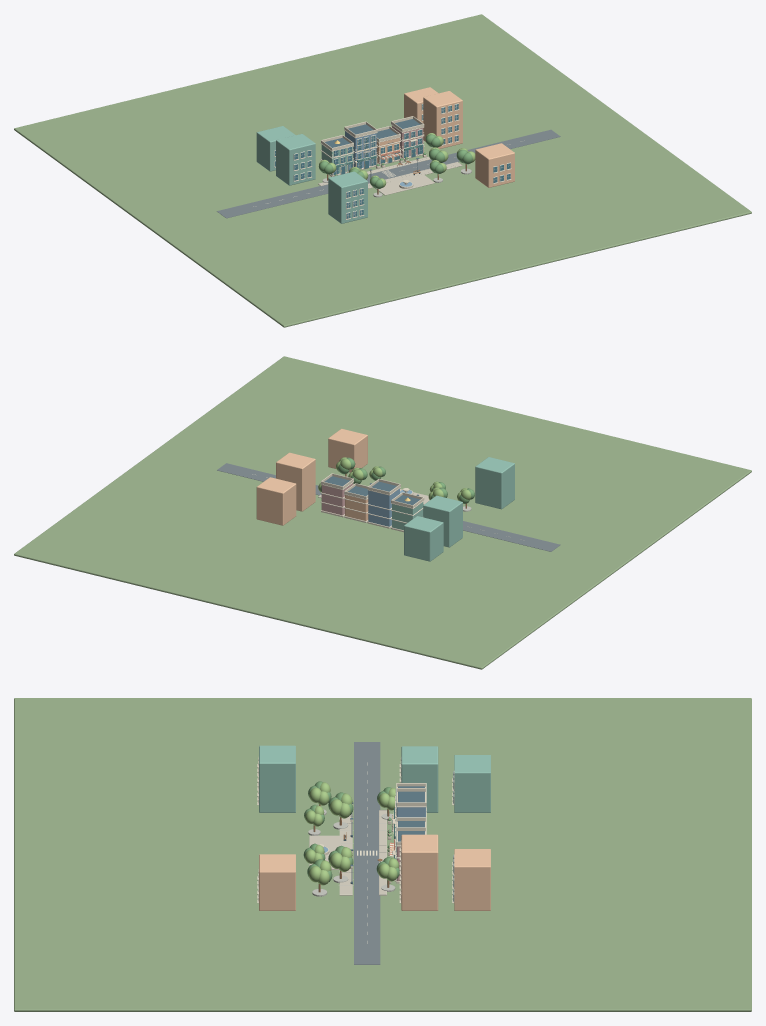
The model's file is freedom-square.glb.
The picture shows the model from 3 angles, top to bottom: view 1: azimuth 30°, elevation 25°; view 2: azimuth 150°, elevation 25°; view 3: azimuth 270°, elevation 25°; orthographic projection. The views are drawn at different scales.
Visible parts, largest first — view 1: Town_grass, Town_mint, Town_peach, Town_road, Town_ivory, Town_glass, Town_cream, Town_paving, Town_leaf, Town_blue, Town_slate; view 2: Town_grass, Town_mint, Town_peach, Town_road, Town_ivory, Town_blue, Town_leafLight, Town_pink, Town_slate, Town_leaf, Town_cream; view 3: Town_grass, Town_peach, Town_mint, Town_road, Town_leafLight, Town_paving, Town_ivory, Town_leaf, Town_slate, Town_cream, Town_stone.
Part boxes in pixels (box(x1,y1,x2,y2)): Town_grass: box(14, 14, 751, 327); Town_mint: box(256, 126, 367, 223); Town_peach: box(376, 87, 514, 187); Town_road: box(217, 129, 560, 218); Town_ivory: box(274, 104, 511, 219); Town_glass: box(275, 104, 510, 218); Town_cream: box(252, 103, 524, 218); Town_paving: box(318, 156, 462, 195); Town_leaf: box(318, 134, 472, 188); Town_blue: box(295, 105, 508, 216); Town_slate: box(324, 119, 420, 177); Town_grass: box(14, 356, 751, 669); Town_mint: box(392, 457, 514, 561); Town_peach: box(256, 428, 368, 525); Town_road: box(217, 463, 560, 551); Town_ivory: box(321, 473, 424, 532); Town_blue: box(368, 488, 412, 526); Town_leafLight: box(318, 457, 471, 500); Town_pink: box(321, 483, 353, 515); Town_slate: box(324, 476, 420, 505); Town_leaf: box(320, 457, 474, 503); Town_cream: box(252, 474, 524, 540); Town_grass: box(14, 698, 751, 1011); Town_peach: box(259, 834, 490, 910); Town_mint: box(259, 745, 490, 812); Town_road: box(354, 742, 380, 964); Town_leafLight: box(305, 782, 399, 885); Town_paving: box(309, 810, 386, 895); Town_ivory: box(257, 758, 454, 903); Town_leaf: box(303, 781, 399, 881); Town_slate: box(343, 786, 424, 884); Town_cream: box(258, 757, 454, 943); Town_stone: box(308, 809, 395, 896).
Size of the model in its own units: 140 by 13.01 by 140.
